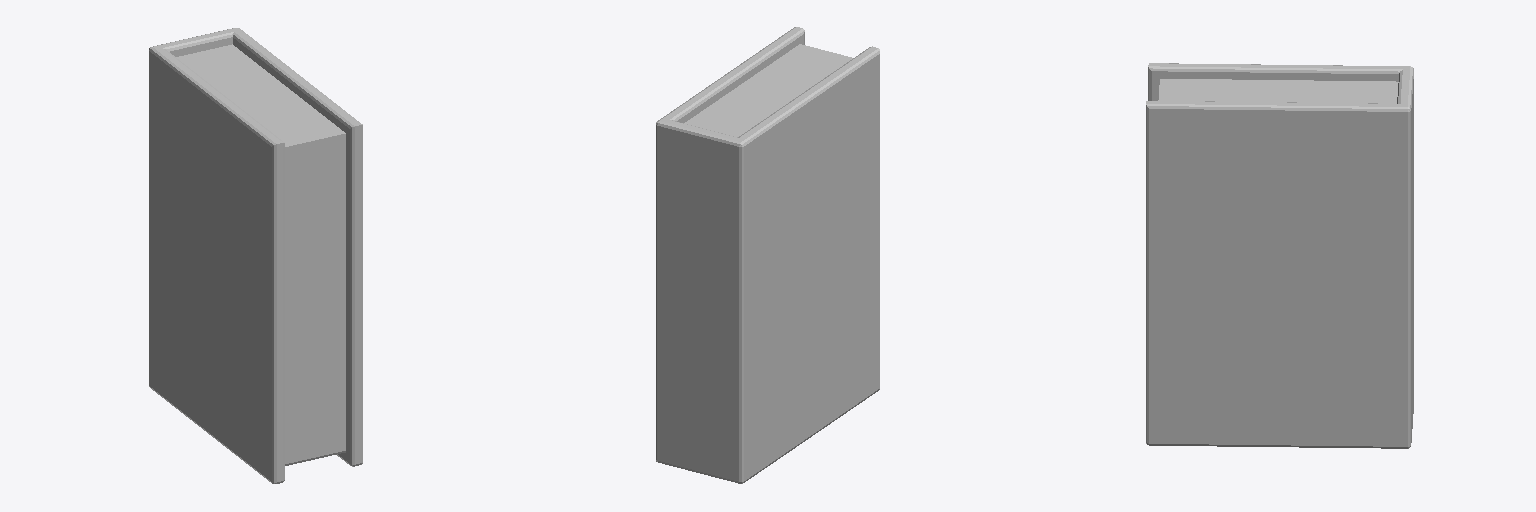
Rendered from book only.obj.
The picture shows the model from 3 angles: view 1: azimuth 30°, elevation 25°; view 2: azimuth 150°, elevation 25°; view 3: azimuth 270°, elevation 25°; orthographic projection.
Parts seen in each view (by area): view 1: book8; view 2: book8; view 3: book8.
Part boxes in pixels (left/top/right/bottom): book8: left=149, top=28, right=362, bottom=483; book8: left=656, top=27, right=879, bottom=483; book8: left=1146, top=63, right=1413, bottom=448.
Bounding box in the file's own units: 1.42 × 4.83 × 3.44.